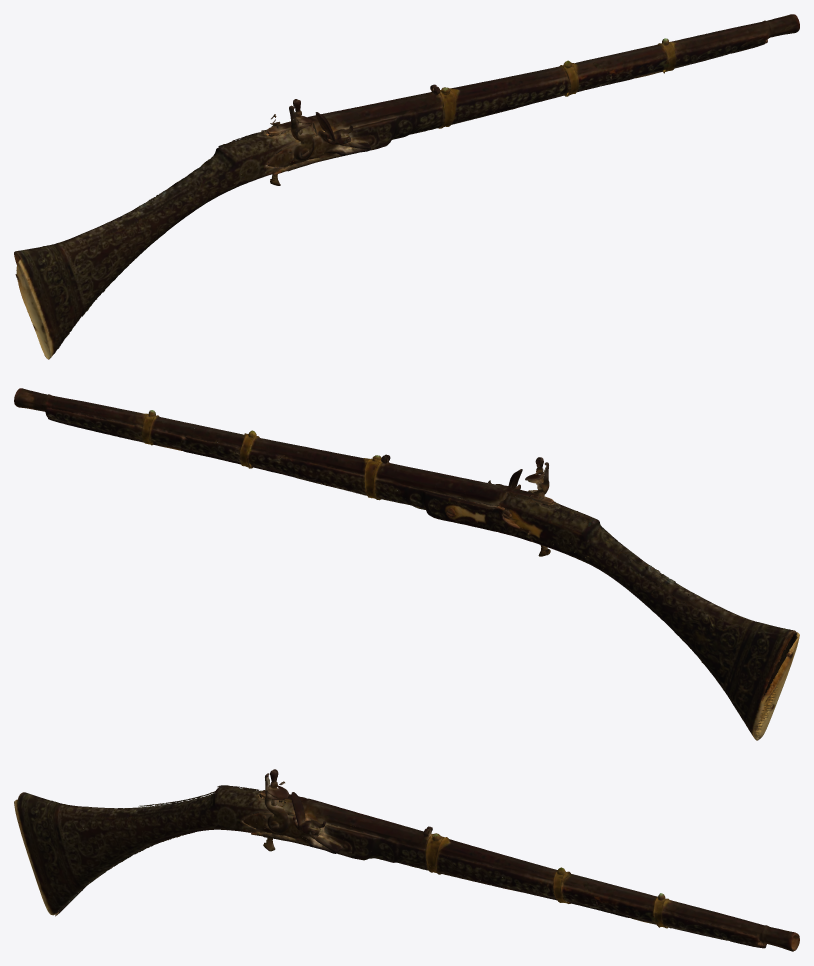
File: flintlock_musket_12858.lod1.glb
3 renders of one model, top to bottom at view 1: azimuth 30°, elevation 25°; view 2: azimuth 150°, elevation 25°; view 3: azimuth 330°, elevation 25°, orthographic.
Parts seen in each view (by area): view 1: Object_2, Object_3; view 2: Object_2, Object_3; view 3: Object_2, Object_3.
Part boxes in pixels (bbox=[...]): Object_2: bbox=[14, 14, 799, 359]; Object_3: bbox=[60, 36, 711, 345]; Object_2: bbox=[14, 388, 799, 740]; Object_3: bbox=[107, 418, 769, 738]; Object_2: bbox=[14, 785, 799, 951]; Object_3: bbox=[54, 769, 699, 930].
Size of the model in its own units: 997 by 262 by 64.47.
Materials: 1 (1 with a texture image).
